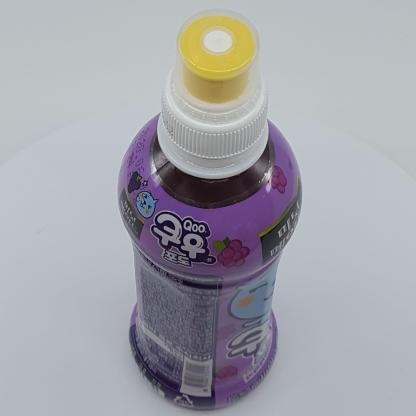------300ML: (117, 8, 302, 410)
